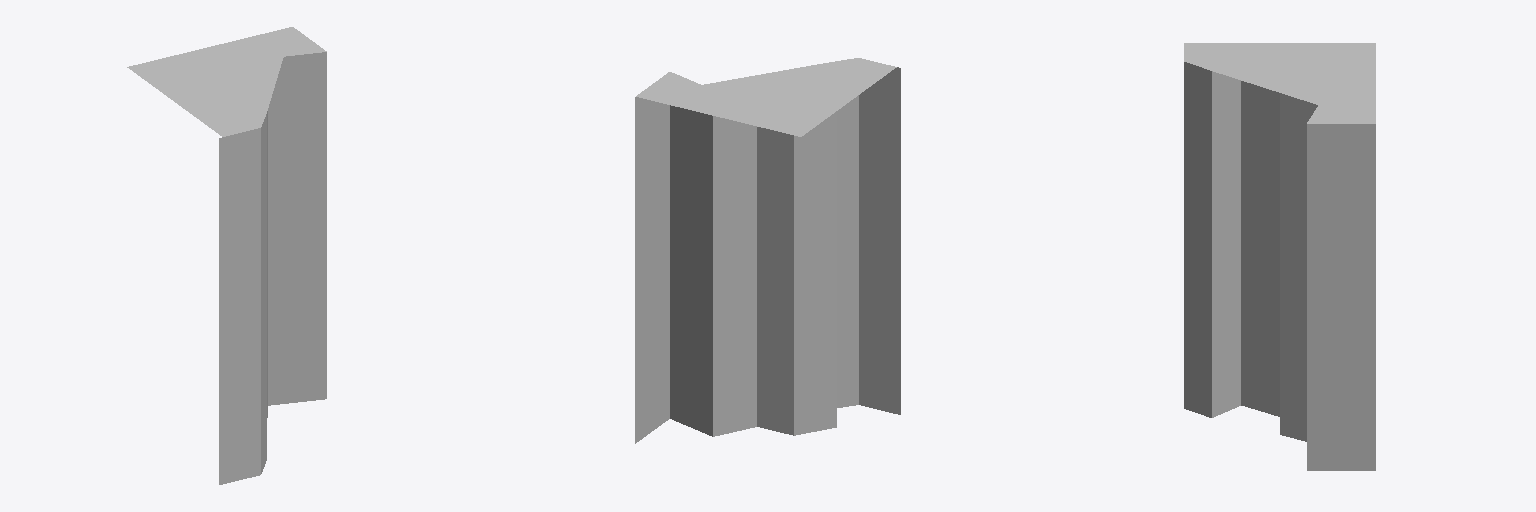
Rendered from hole_5.obj.
3 views of the same model, side by side, from view 1: azimuth 30°, elevation 25°; view 2: azimuth 150°, elevation 25°; view 3: azimuth 270°, elevation 25° (orthographic).
Parts seen in each view (by area): view 1: Cube_Cube.030; view 2: Cube_Cube.030; view 3: Cube_Cube.030.
Part boxes in pixels (x1,y1,x2,y2): Cube_Cube.030: (127,27,326,484); Cube_Cube.030: (635,58,900,443); Cube_Cube.030: (1184,43,1375,470).
Bounding box in the file's own units: 4.09 × 8 × 4.